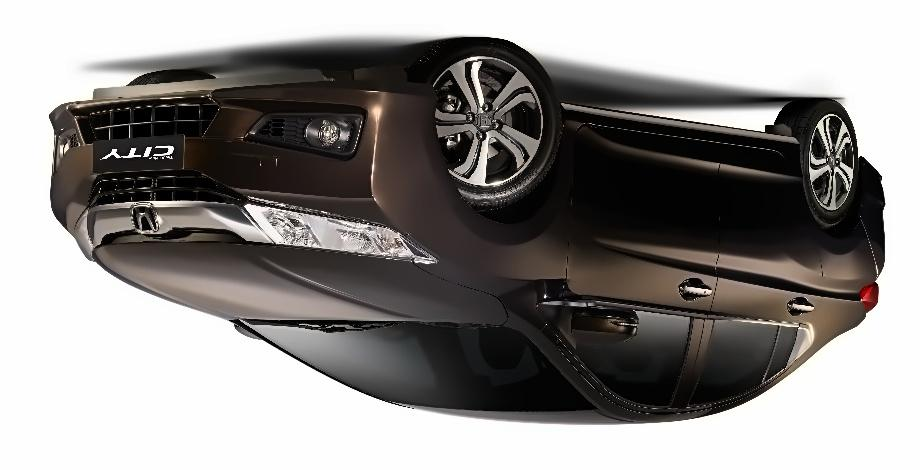Car hood: (84, 239, 511, 339)
Driver-s door - -F-R-: (542, 70, 744, 431)
Fender - -F-R-: (372, 85, 576, 316)
Fender - -R-R-: (789, 162, 880, 311)
Front bumper: (52, 68, 451, 249)
Headlight - -R-: (242, 201, 438, 267)
Passenger-s door - -R-R-: (672, 91, 809, 432)
Side bumper - -R-: (565, 88, 808, 218)
Side mirror - -R-: (543, 275, 647, 338)
